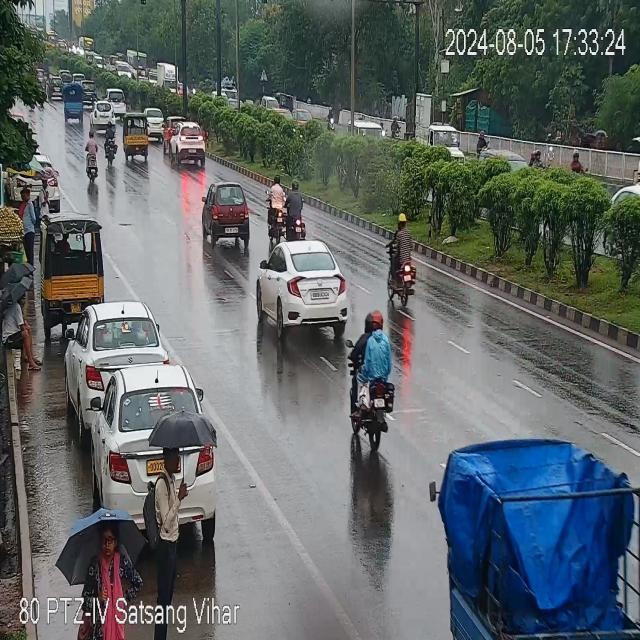2-wheelers: (346, 308, 394, 452), (374, 214, 418, 310), (268, 179, 304, 244), (84, 128, 99, 184), (104, 121, 116, 165), (570, 148, 586, 168), (476, 130, 490, 152), (530, 148, 544, 166)
auto: (425, 424, 640, 640), (40, 212, 108, 322), (122, 112, 150, 164), (61, 78, 85, 120)
car: (94, 362, 204, 492), (252, 242, 354, 342), (69, 304, 161, 412), (202, 182, 252, 252), (14, 156, 62, 206), (170, 124, 208, 168), (428, 124, 463, 164), (87, 100, 115, 128), (162, 115, 178, 154), (105, 88, 128, 115), (144, 108, 165, 134), (84, 80, 98, 100)
pedestrian: (150, 414, 182, 594), (86, 520, 138, 594), (4, 295, 40, 373), (22, 185, 35, 262), (38, 176, 52, 212)
